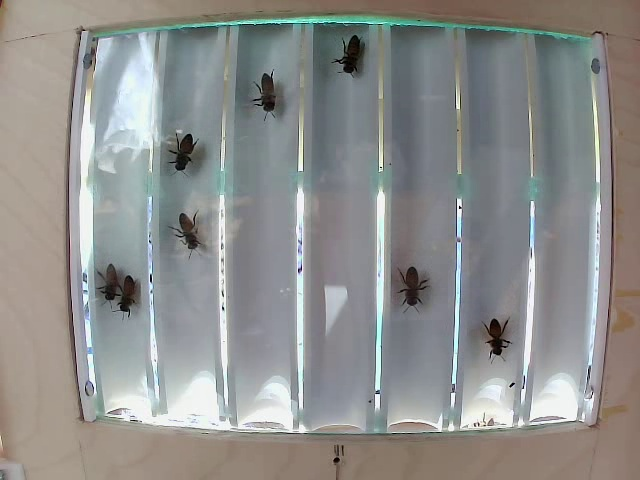bee: (244, 63, 292, 126), (170, 205, 212, 260), (388, 258, 426, 308), (162, 130, 198, 175), (479, 311, 506, 361), (343, 27, 369, 78), (111, 276, 134, 309), (103, 262, 121, 297)
